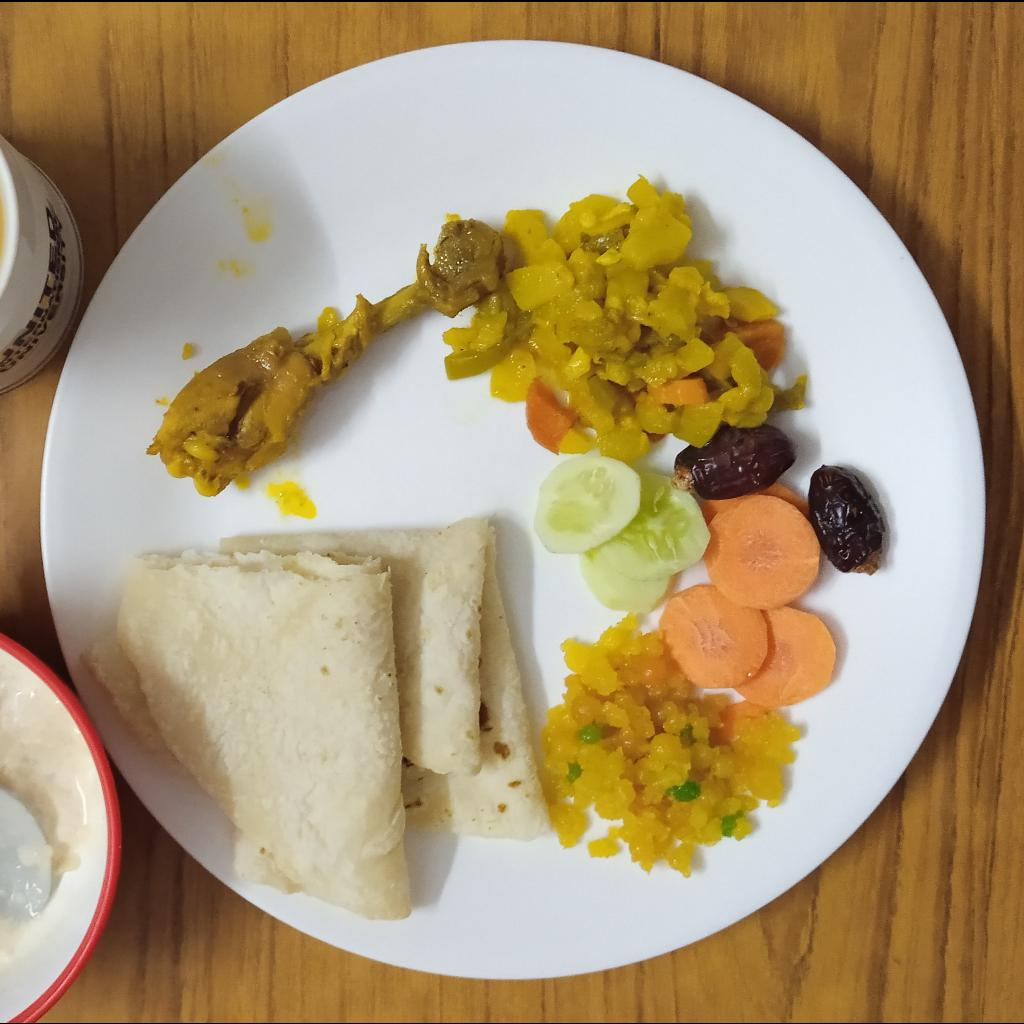burinda: (541, 614, 801, 878)
carrot: (658, 481, 837, 706)
chicken: (143, 217, 505, 499)
cucumber: (533, 454, 713, 613)
dates: (672, 423, 796, 499), (808, 464, 886, 575)
lau: (441, 175, 807, 460)
payesh: (0, 636, 120, 1022)
ruti: (79, 516, 550, 919)
